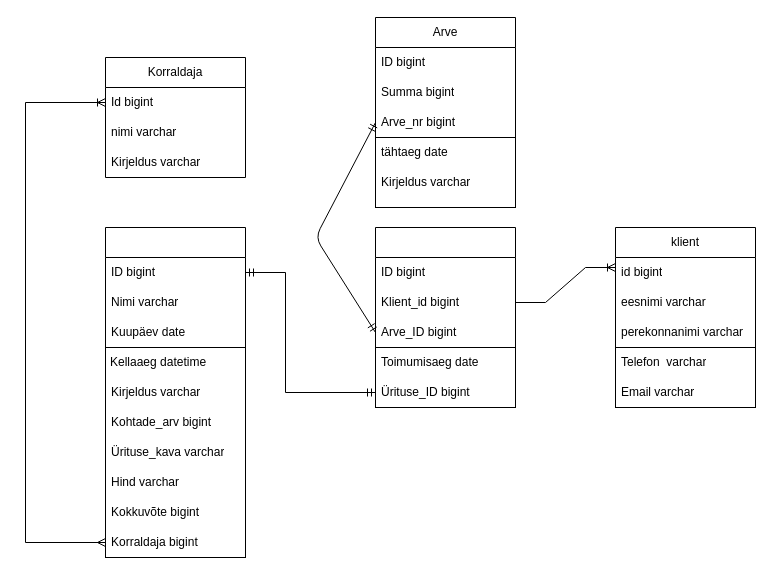
This 773x575 diagram has some shape labels left out. The shapes that lost their labels are listed below. From the top down, each one's box as (x1, y1, x2, y2) in pixels, then its label:
(104, 226, 246, 348): Üritus
(374, 226, 516, 348): Registreerimine
